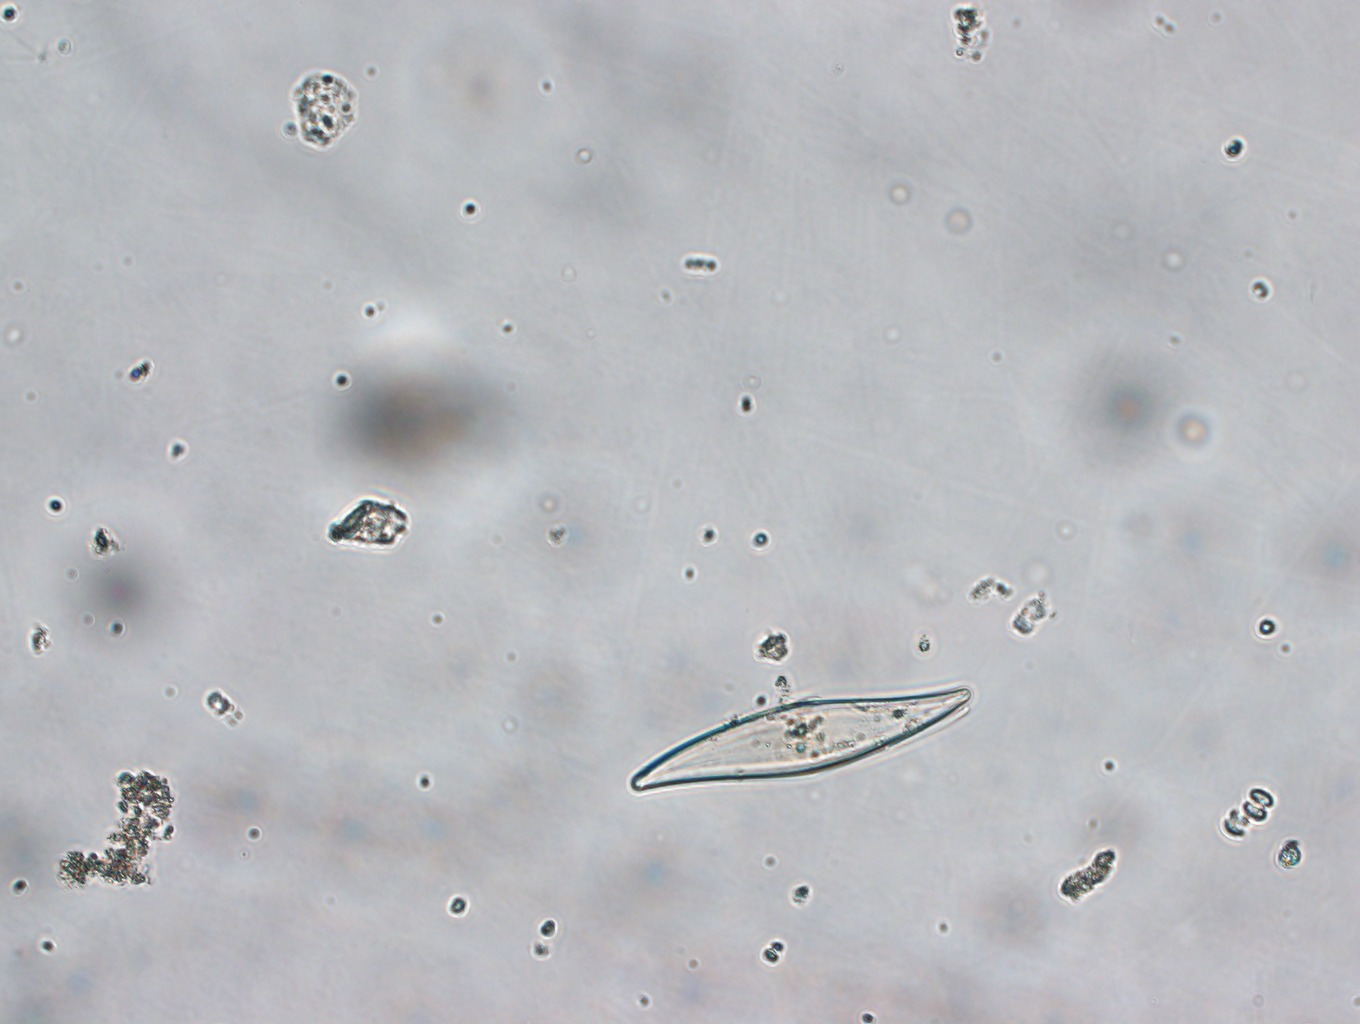pleurosigma pelagicum: (626, 669, 982, 800)
